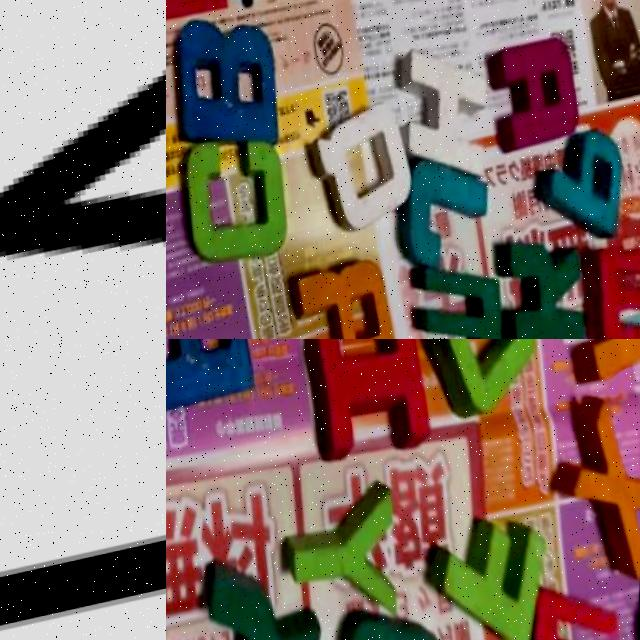A: (485, 32, 586, 159)
B: (170, 12, 286, 159), (166, 339, 270, 448)
C: (176, 135, 295, 269), (413, 339, 553, 432)
D: (323, 612, 462, 640)
F: (416, 492, 559, 640)
H: (385, 35, 499, 195)
I: (308, 339, 436, 472)
J: (0, 475, 166, 640), (387, 145, 501, 281)
K: (180, 548, 337, 640), (489, 234, 596, 339)
M: (398, 255, 516, 339)
P: (532, 134, 634, 255)
Q: (297, 101, 418, 249)
R: (280, 245, 405, 339), (566, 339, 640, 401)
W: (580, 240, 640, 339)
X: (546, 386, 640, 600)
Y: (0, 0, 166, 339), (282, 480, 407, 626)
